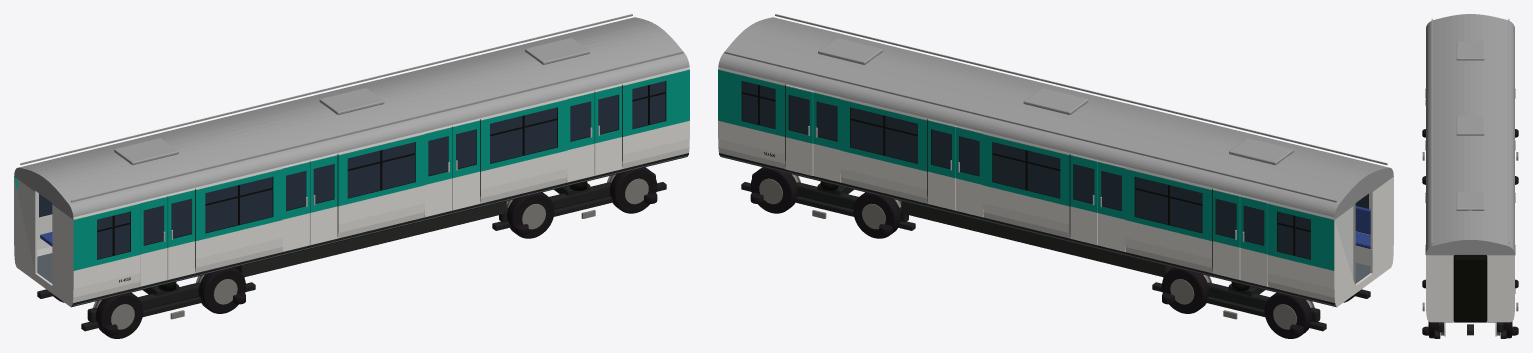
The model's file is mp73_car.glb.
3 views of the same model, side by side, from view 1: azimuth 30°, elevation 25°; view 2: azimuth 150°, elevation 25°; view 3: azimuth 270°, elevation 25° (orthographic). The views are drawn at different scales.
Visible parts, largest first — view 1: mp73_car_neutral; view 2: mp73_car_neutral; view 3: mp73_car_neutral.
Boxes of the visible parts, x1,y1,x2,y2 form: mp73_car_neutral: (14,14,689,338); mp73_car_neutral: (718,14,1393,338); mp73_car_neutral: (1422,14,1518,338).
Size of the model in its own units: 14.74 by 3.49 by 2.59.
Materials: 5 (3 with a texture image).
